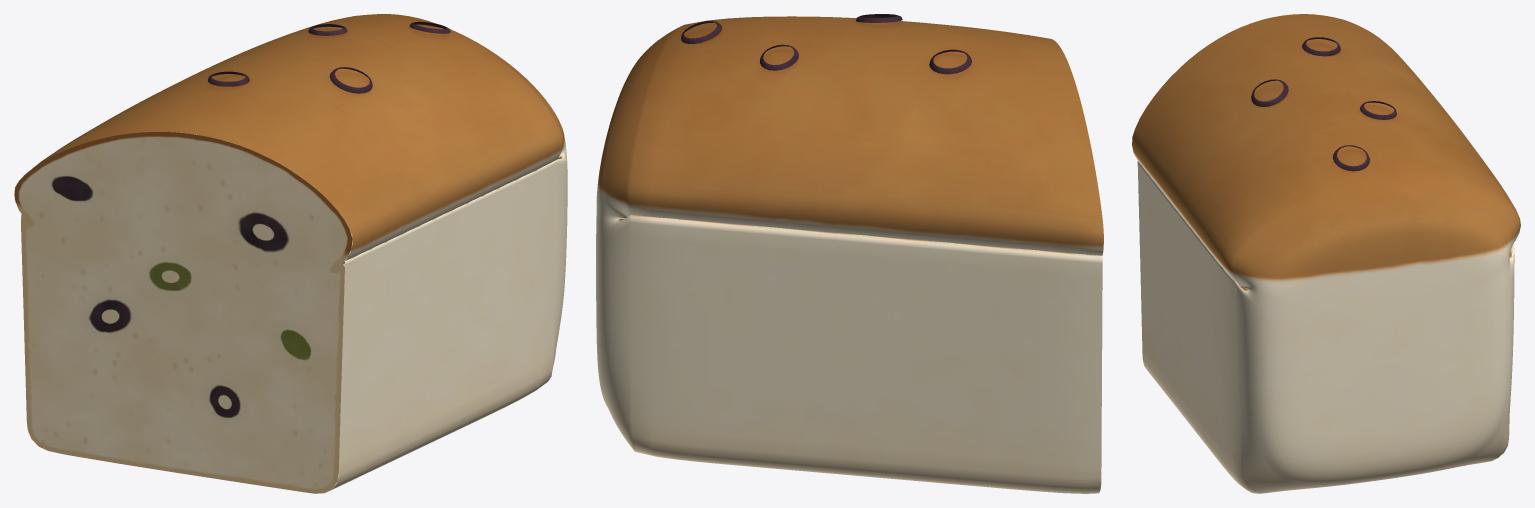
Rendered from loaf--olive-flesh.glb.
The picture shows the model from 3 angles, left to right: view 1: azimuth 30°, elevation 25°; view 2: azimuth 150°, elevation 25°; view 3: azimuth 270°, elevation 25°; orthographic projection. The views are drawn at different scales.
Visible parts, largest first — view 1: loaf_olive-flesh; view 2: loaf_olive-flesh; view 3: loaf_olive-flesh.
Boxes of the visible parts, x1,y1,x2,y2 form: loaf_olive-flesh: (14, 14, 567, 493); loaf_olive-flesh: (596, 14, 1103, 493); loaf_olive-flesh: (1132, 14, 1520, 493).
Bounding box in the file's own units: 1.04 × 0.728 × 0.7774.
Materials: 1 (1 with a texture image).
